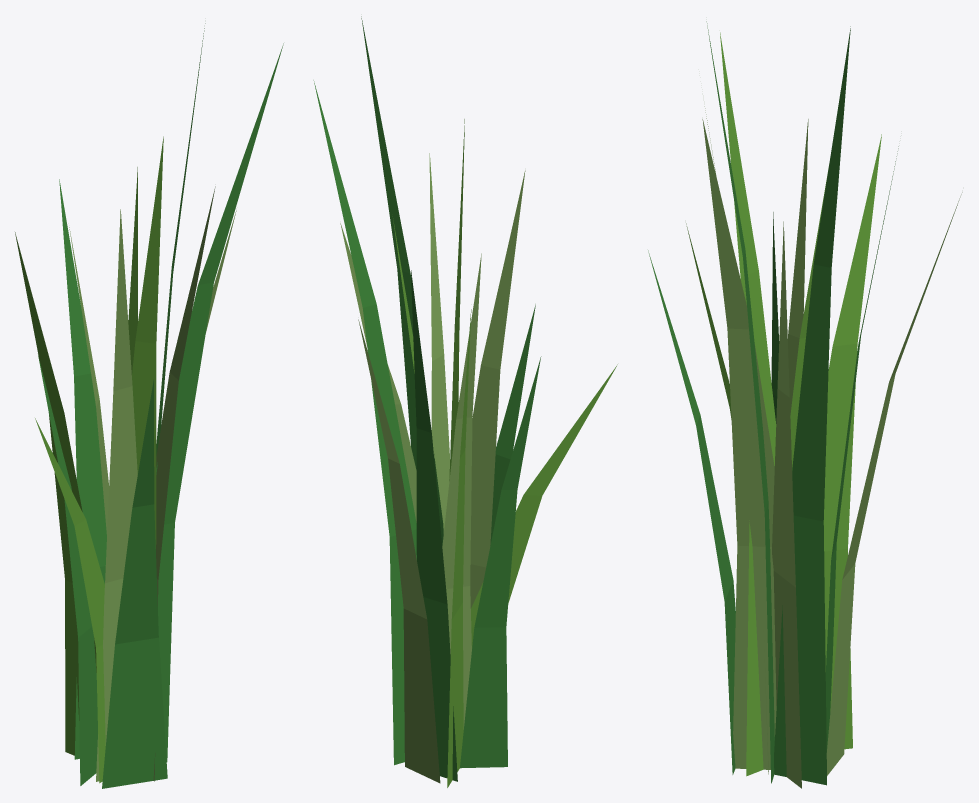
File: meadow_grass.glb
3 views of the same model, side by side, from view 1: azimuth 30°, elevation 25°; view 2: azimuth 150°, elevation 25°; view 3: azimuth 270°, elevation 25° (orthographic). The views are drawn at different scales.
Visible parts, largest first — view 1: body; view 2: body; view 3: body.
Boxes of the visible parts, bbox=[...] form: body: bbox=[15, 23, 283, 788]; body: bbox=[313, 16, 617, 787]; body: bbox=[648, 21, 962, 788].
Bounding box in the file's own units: 0.3318 × 0.8826 × 0.31.
